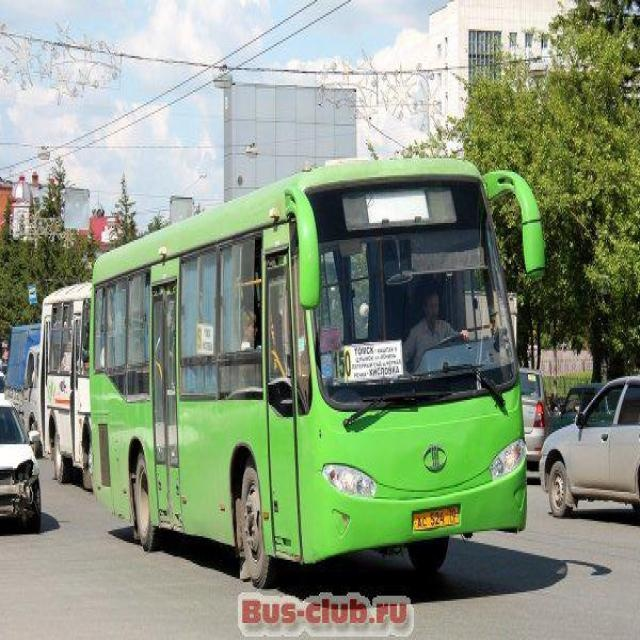Bus: (86, 152, 542, 590)
